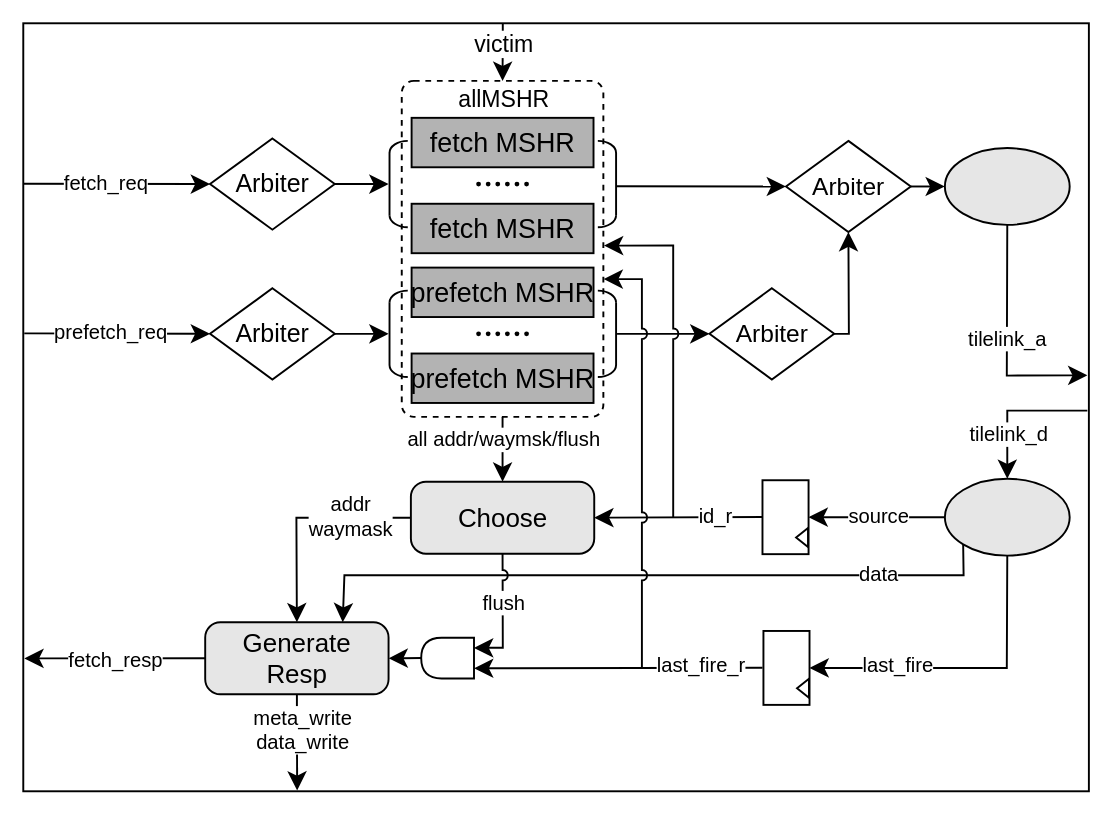
Some shapes in this 1111 by 814 pixel diagram are drawn without their labels. The shapes that lost their labels are listed below. From the top down, each one's centre as x and y in pixels, then its label:
At [1007,186]: "acquire".
At [1007,517]: "grant".
